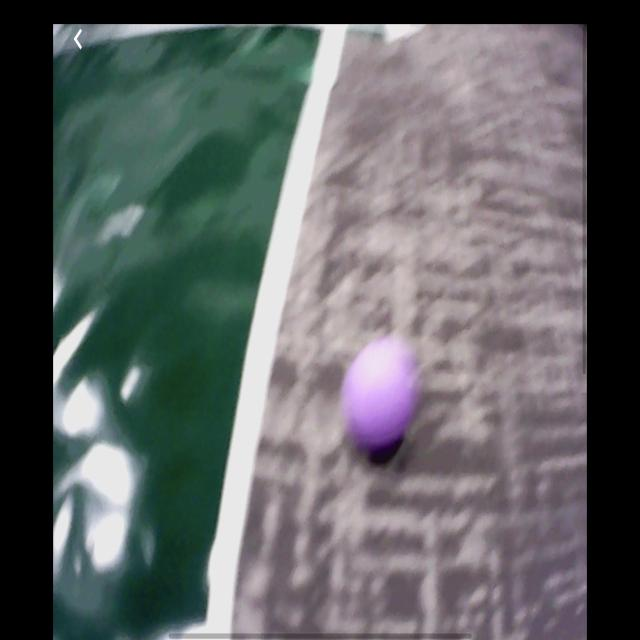ball: (347, 344, 414, 449)
